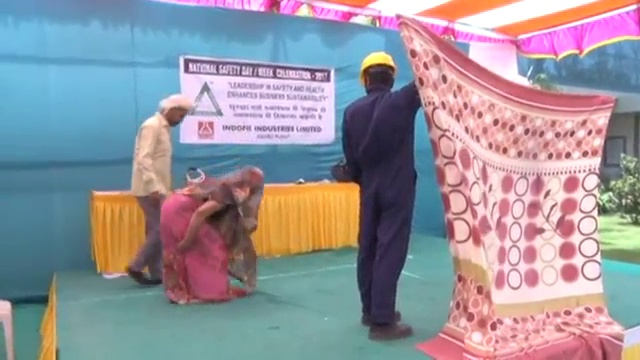helmet: (359, 51, 398, 82)
helmet_off: (159, 95, 192, 126), (234, 163, 266, 192)
helmet_on: (357, 51, 397, 91)
person: (337, 51, 422, 341), (159, 162, 267, 308), (123, 95, 190, 287)
